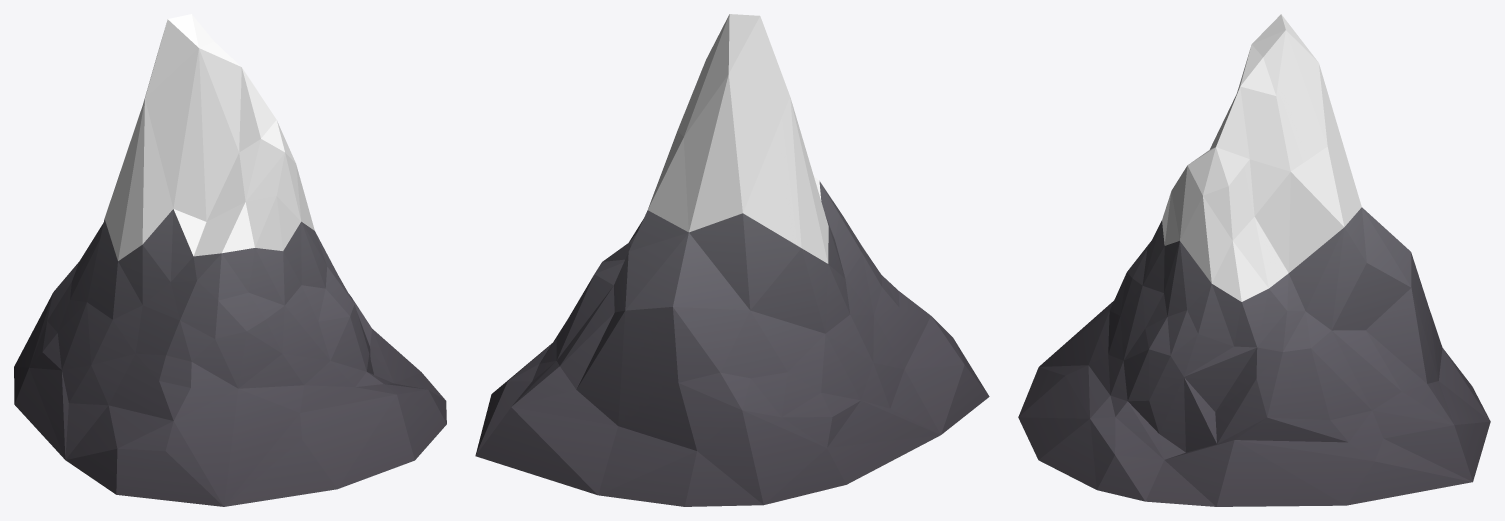
The model's file is Mountain_05.glb.
3 views of the same model, side by side, from view 1: azimuth 30°, elevation 25°; view 2: azimuth 150°, elevation 25°; view 3: azimuth 270°, elevation 25° (orthographic). The views are drawn at different scales.
Visible parts, largest first — view 1: Mountain_05; view 2: Mountain_05; view 3: Mountain_05.
Boxes of the visible parts, x1,y1,x2,y2 form: Mountain_05: [14, 14, 446, 506]; Mountain_05: [475, 14, 989, 506]; Mountain_05: [1018, 14, 1490, 506].
Size of the model in its own units: 43.99 by 45.12 by 50.24.
Materials: 1 (1 with a texture image).
